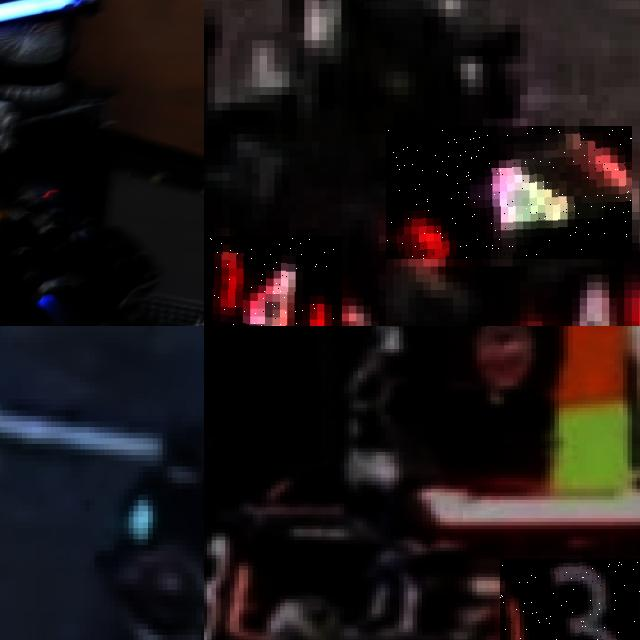R3: (499, 558, 640, 640)
R4: (386, 126, 632, 259), (204, 235, 341, 326), (520, 274, 640, 326)
